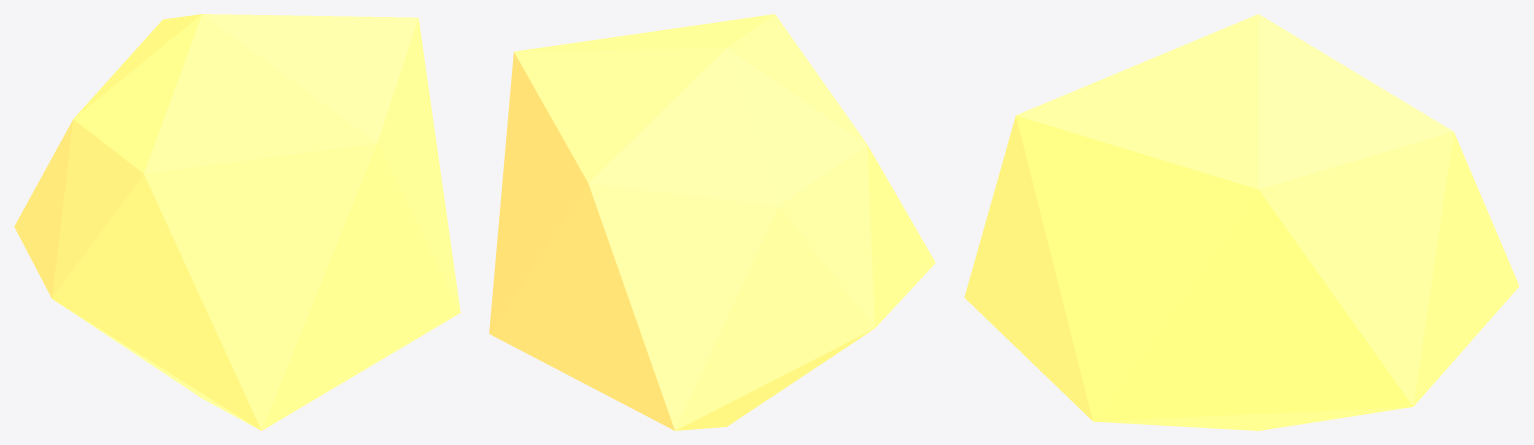
Rendered from boss_damage_shard.glb.
3 views of the same model, side by side, from view 1: azimuth 30°, elevation 25°; view 2: azimuth 150°, elevation 25°; view 3: azimuth 270°, elevation 25° (orthographic). The views are drawn at different scales.
Visible parts, largest first — view 1: boss_damage_shard; view 2: boss_damage_shard; view 3: boss_damage_shard.
Part boxes in pixels (<box>): boss_damage_shard: <box>14,14,460,430</box>; boss_damage_shard: <box>489,14,935,430</box>; boss_damage_shard: <box>964,14,1519,430</box>.
Bounding box in the file's own units: 0.3266 × 0.3275 × 0.3952.
